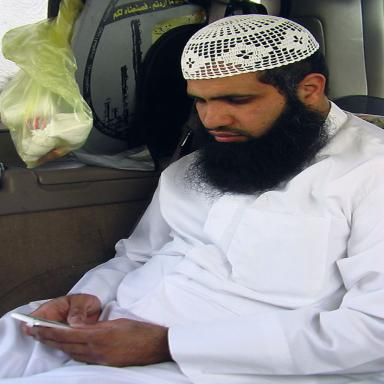plasticbag: (0, 0, 93, 168)
